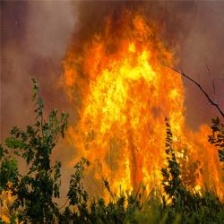fire: (59, 13, 223, 199)
